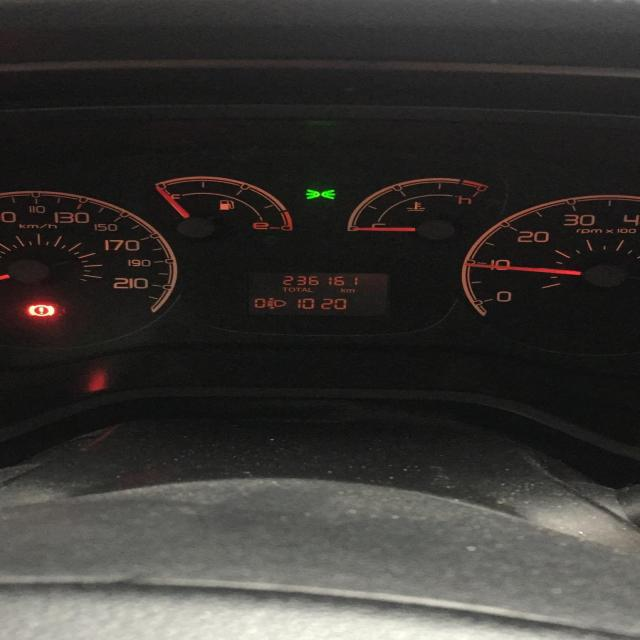odometer: (235, 269, 391, 319)
